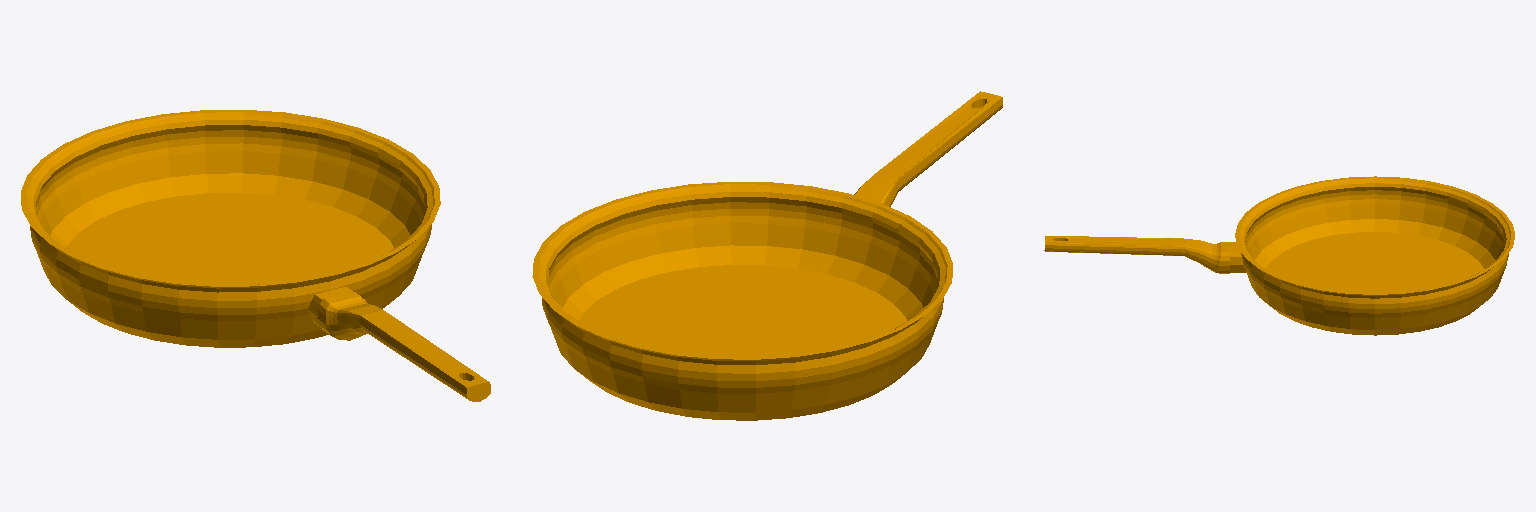
URDF robot description (none):
<robot name="none">
       <link name="none">
           <visual>
               <origin rpy="1.57 0 0" xyz="0 0 0" />
               <geometry>
                   <mesh filename="poele.obj" />
               </geometry>
           </visual>
          <collision>
              <geometry>
                  <box size="0.595742 0.125077 1.000000" />
              </geometry>
          </collision>

          <inertial>
            <mass value="0.0" />
            <inertia ixx="0.0" ixy="0.0" ixz="0.0" iyy="0.0" iyz="0.0" izz="0.0" />
          </inertial>
      </link>
  </robot>

--- Facts derived from the render (not from the file) ---
The picture shows the robot from 3 angles, left to right: view 1: azimuth 30°, elevation 25°; view 2: azimuth 150°, elevation 25°; view 3: azimuth 270°, elevation 25°; orthographic projection.
Robot: none — 1 links, 0 joints (none); root link none; default pose: all joints at 0.
Links seen in each view (by area): view 1: none; view 2: none; view 3: none.
Boxes of the visible links, x1,y1,x2,y2 form: none: [21, 110, 490, 401]; none: [532, 91, 1002, 420]; none: [1044, 176, 1514, 335].
Bounding box of the posed robot: 0.5957 × 1 × 0.1255 m (x, y, z).
1 mesh visuals loaded from 1 distinct referenced files (1 OBJ).